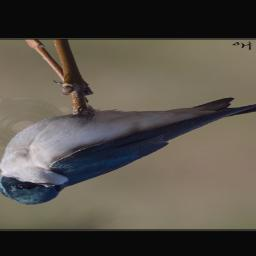Swallow: (0, 97, 256, 205)
